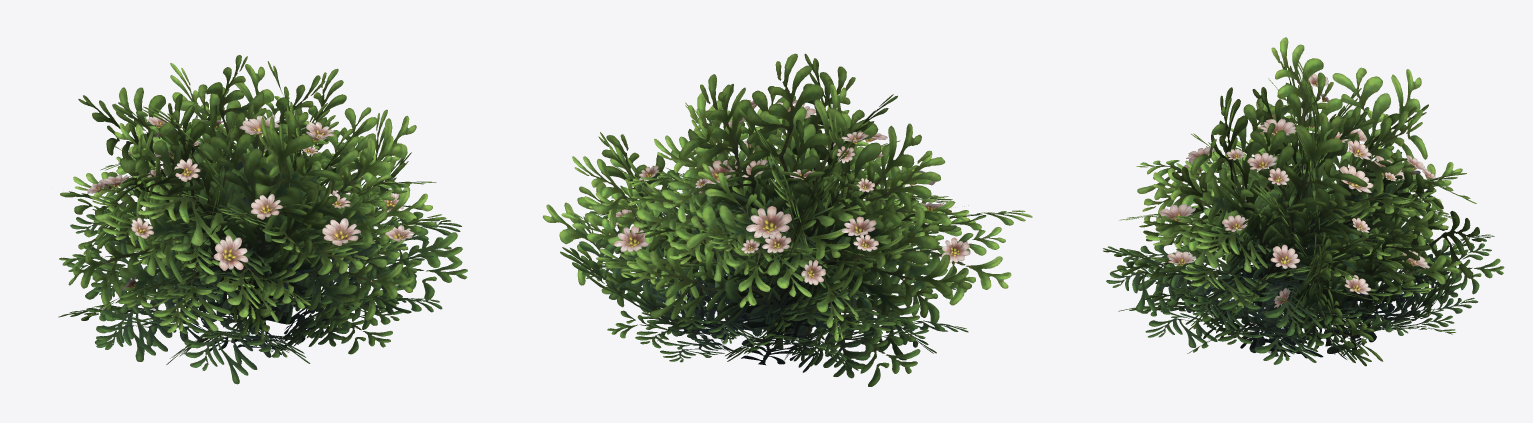
The model's file is S_Plant_Green001.FBX.
3 views of the same model, side by side, from view 1: azimuth 30°, elevation 25°; view 2: azimuth 150°, elevation 25°; view 3: azimuth 270°, elevation 25° (orthographic). The views are drawn at different scales.
Visible parts, largest first — view 1: S_Plant_Green001; view 2: S_Plant_Green001; view 3: S_Plant_Green001.
Part boxes in pixels (x1,y1,x2,y2): S_Plant_Green001: [58, 55, 467, 384]; S_Plant_Green001: [543, 53, 1032, 386]; S_Plant_Green001: [1103, 37, 1504, 366].
Size of the model in its own units: 205 by 158 by 183.
